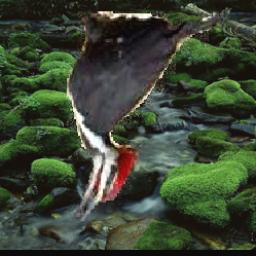Woodpecker: (68, 11, 231, 221)
